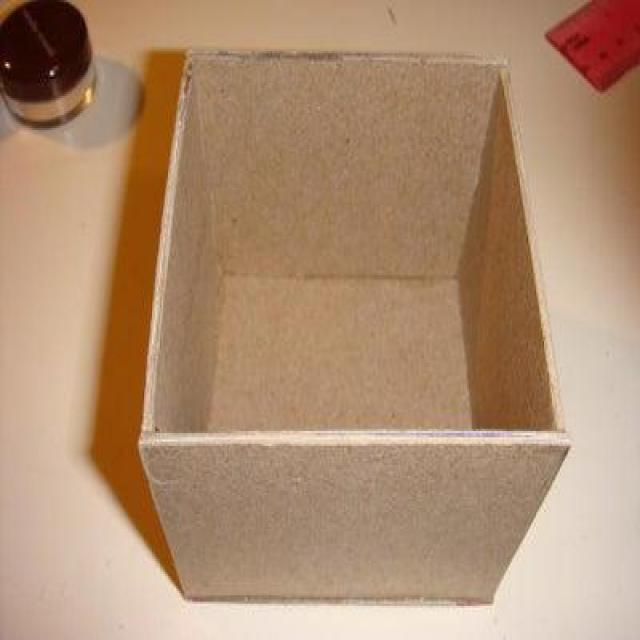cardboard: (136, 45, 572, 607)
